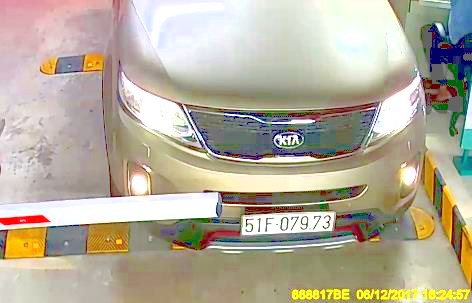plate: (237, 207, 340, 240)
